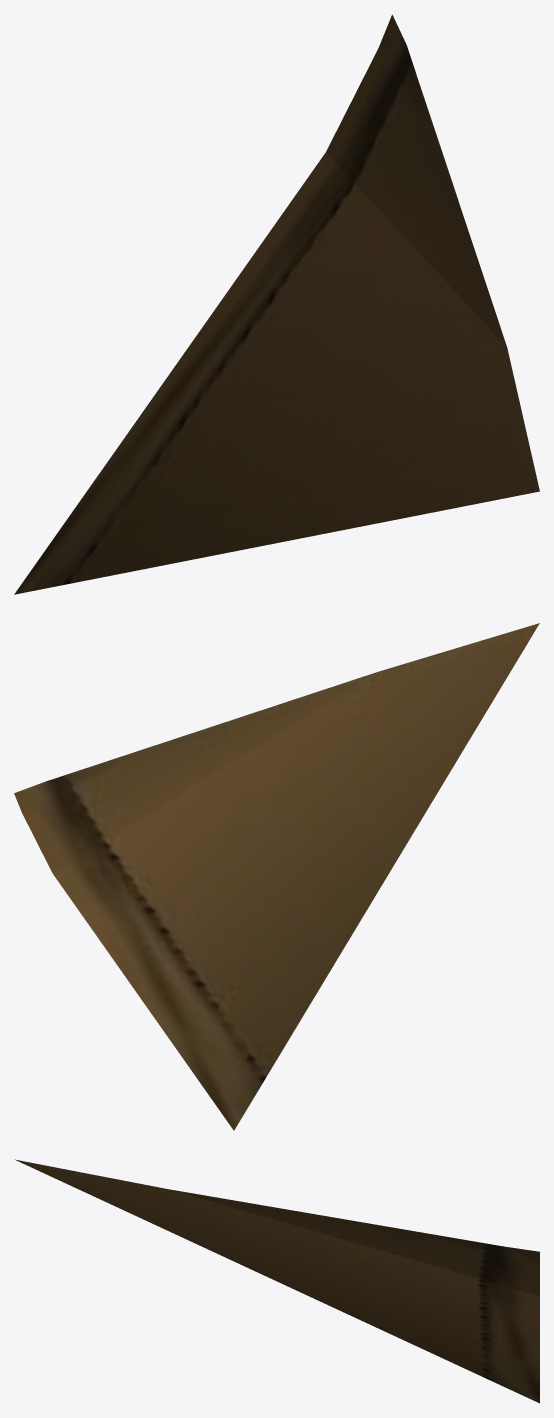
3 renders of one model, top to bottom at view 1: azimuth 30°, elevation 25°; view 2: azimuth 150°, elevation 25°; view 3: azimuth 270°, elevation 25°, orthographic. The views are drawn at different scales.
Size of the model in its own units: 0.1764 by 0.2176 by 0.4249.
Materials: 1 (1 with a texture image).
